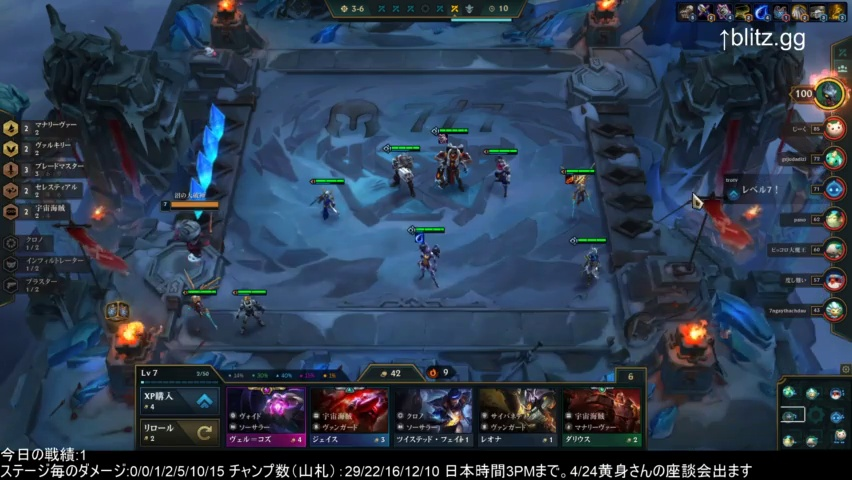kaisa*2:tear: (401, 225, 450, 293)
